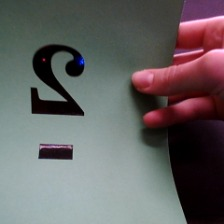green2: (25, 37, 93, 166)
